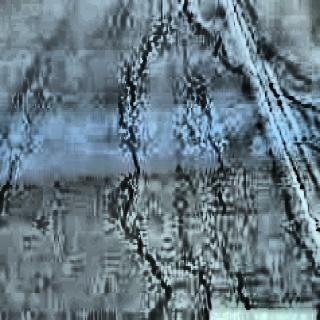crack: (118, 0, 177, 320), (245, 35, 320, 271), (193, 74, 258, 320), (194, 270, 219, 320)
